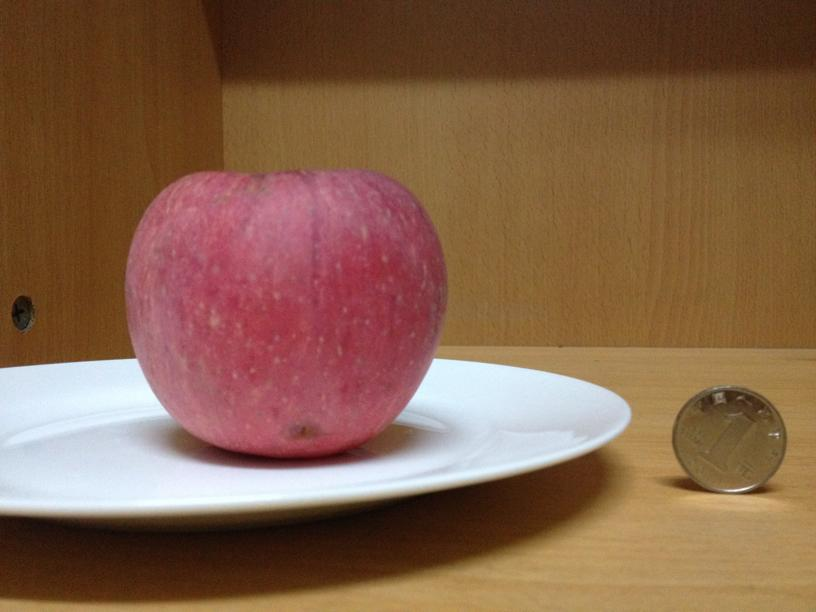apple: (118, 169, 449, 459)
coin: (673, 383, 788, 494)
